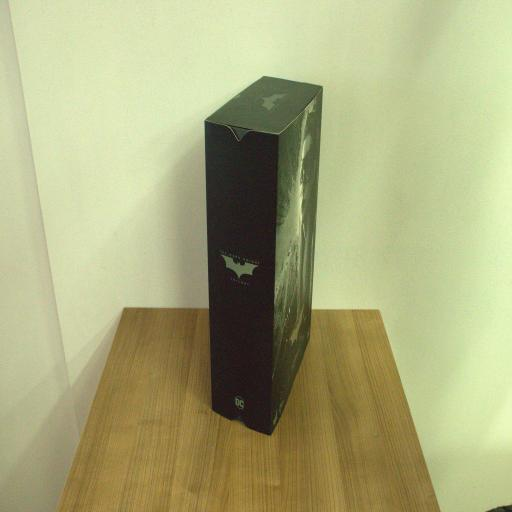catwoman: (205, 76, 323, 438)
